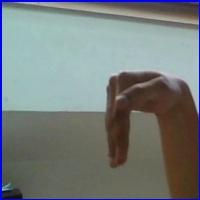del: (102, 70, 195, 168)
